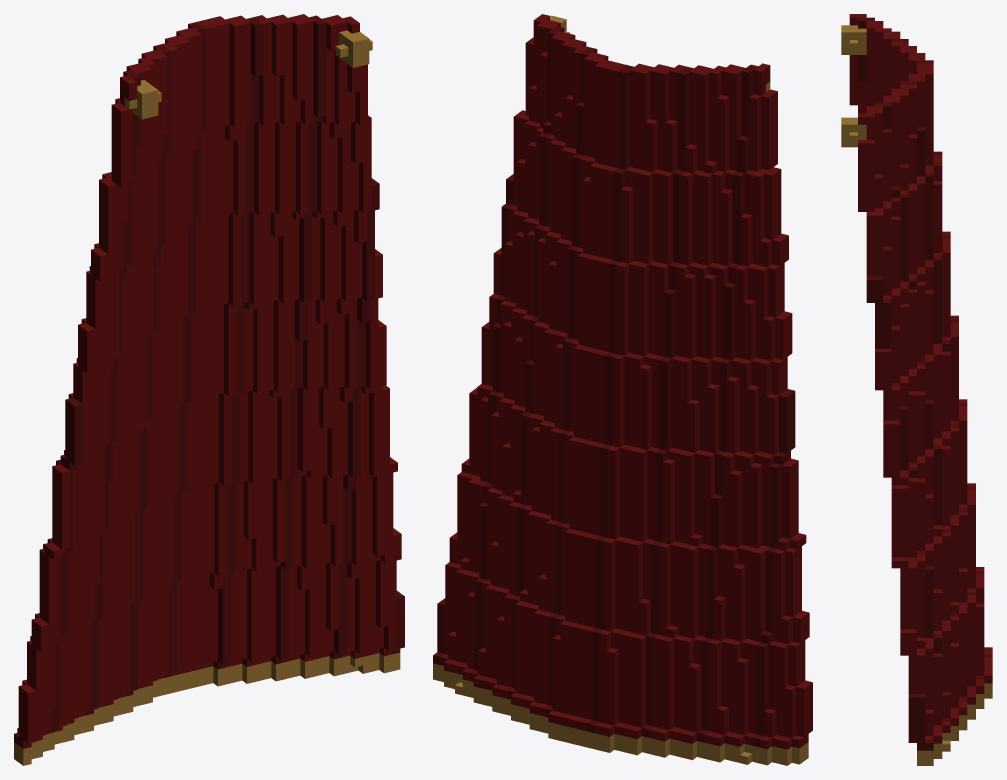
The model's file is chain_rare_cloak.glb.
The picture shows the model from 3 angles, left to right: view 1: azimuth 30°, elevation 25°; view 2: azimuth 150°, elevation 25°; view 3: azimuth 270°, elevation 25°; orthographic projection. The views are drawn at different scales.
Visible parts, largest first — view 1: chain_rare_cloak; view 2: chain_rare_cloak; view 3: chain_rare_cloak.
Part boxes in pixels (left/top/right/bottom): chain_rare_cloak: left=14, top=14, right=404, bottom=765; chain_rare_cloak: left=433, top=14, right=812, bottom=765; chain_rare_cloak: left=841, top=14, right=992, bottom=765.
Size of the model in its own units: 0.564 by 0.972 by 0.216.
